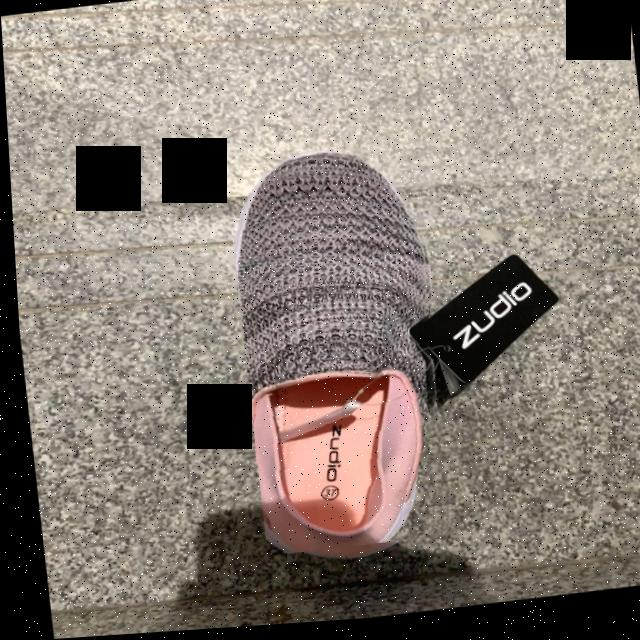shoe: (231, 157, 427, 548)
